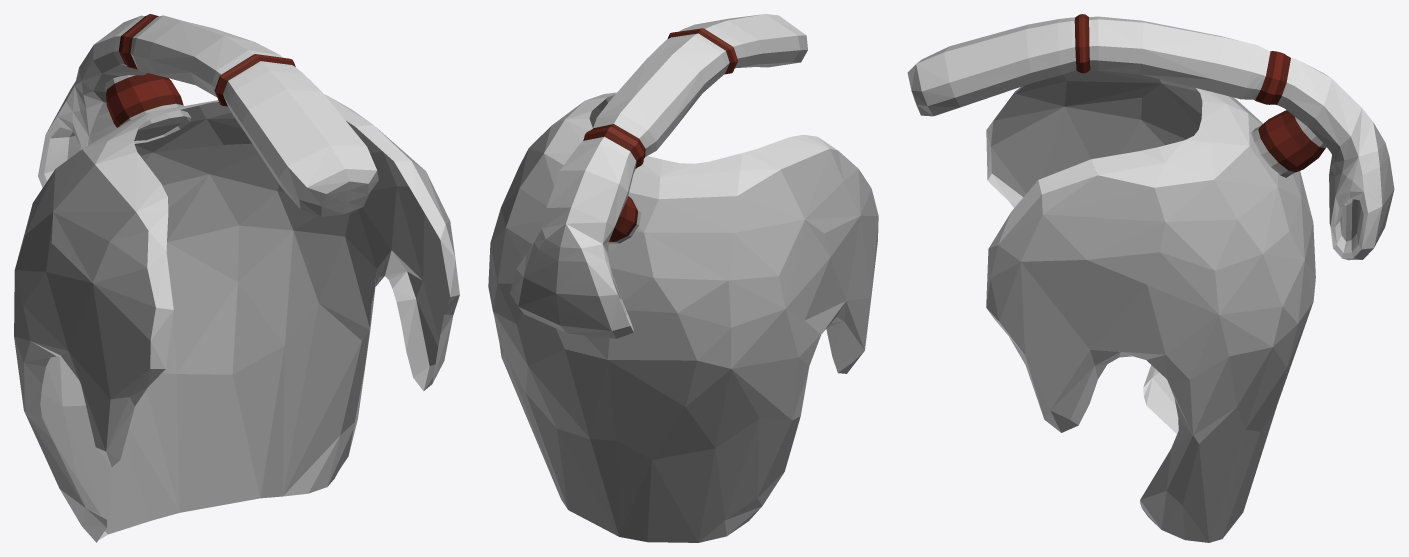
The model's file is chonmageFemale.glb.
3 views of the same model, side by side, from view 1: azimuth 30°, elevation 25°; view 2: azimuth 150°, elevation 25°; view 3: azimuth 270°, elevation 25° (orthographic). The views are drawn at different scales.
Parts seen in each view (by area): view 1: chonmage; view 2: chonmage; view 3: chonmage.
Part boxes in pixels (x1,y1,x2,y2): chonmage: (14, 14, 459, 542); chonmage: (488, 14, 878, 542); chonmage: (907, 14, 1394, 542).
Bounding box in the file's own units: 0.208 × 0.2879 × 0.2589.
